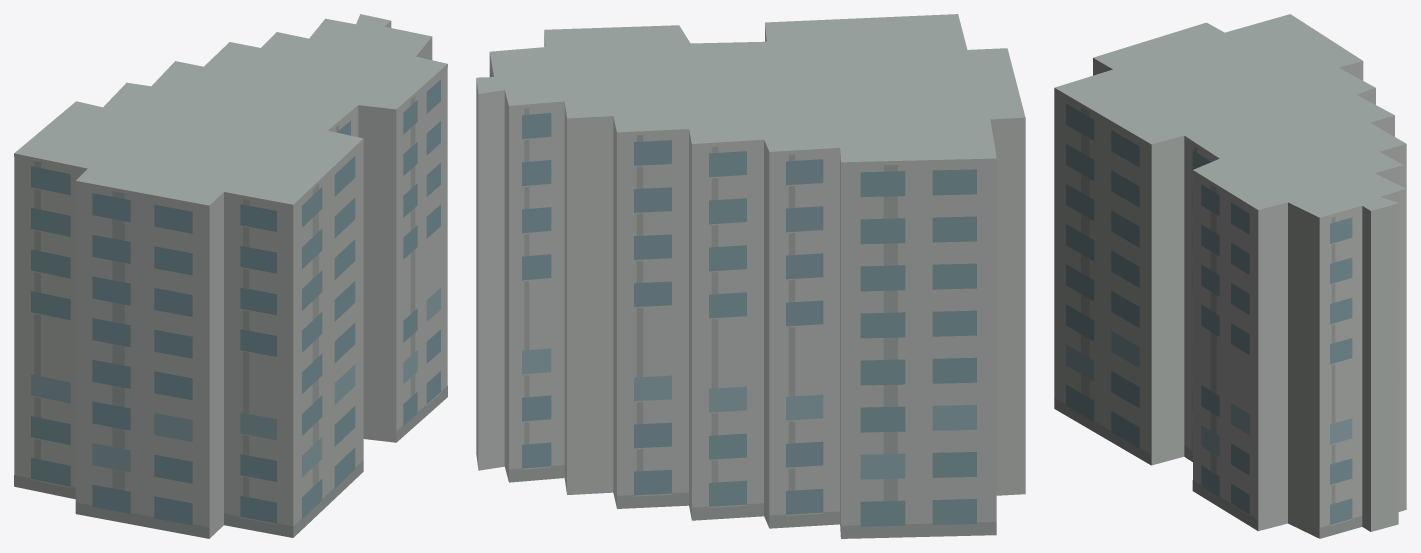
File: survey-upis-32565200.glb
3 views of the same model, side by side, from view 1: azimuth 30°, elevation 25°; view 2: azimuth 150°, elevation 25°; view 3: azimuth 270°, elevation 25° (orthographic). The views are drawn at different scales.
Visible parts, largest first — view 1: survey-upis-32565200.tmp; view 2: survey-upis-32565200.tmp; view 3: survey-upis-32565200.tmp.
Part boxes in pixels (box(x1,y1,x2,y2)): survey-upis-32565200.tmp: box(14, 14, 447, 538); survey-upis-32565200.tmp: box(476, 14, 1025, 538); survey-upis-32565200.tmp: box(1054, 14, 1406, 538).
Size of the model in its own units: 32.12 by 23.6 by 23.47.
